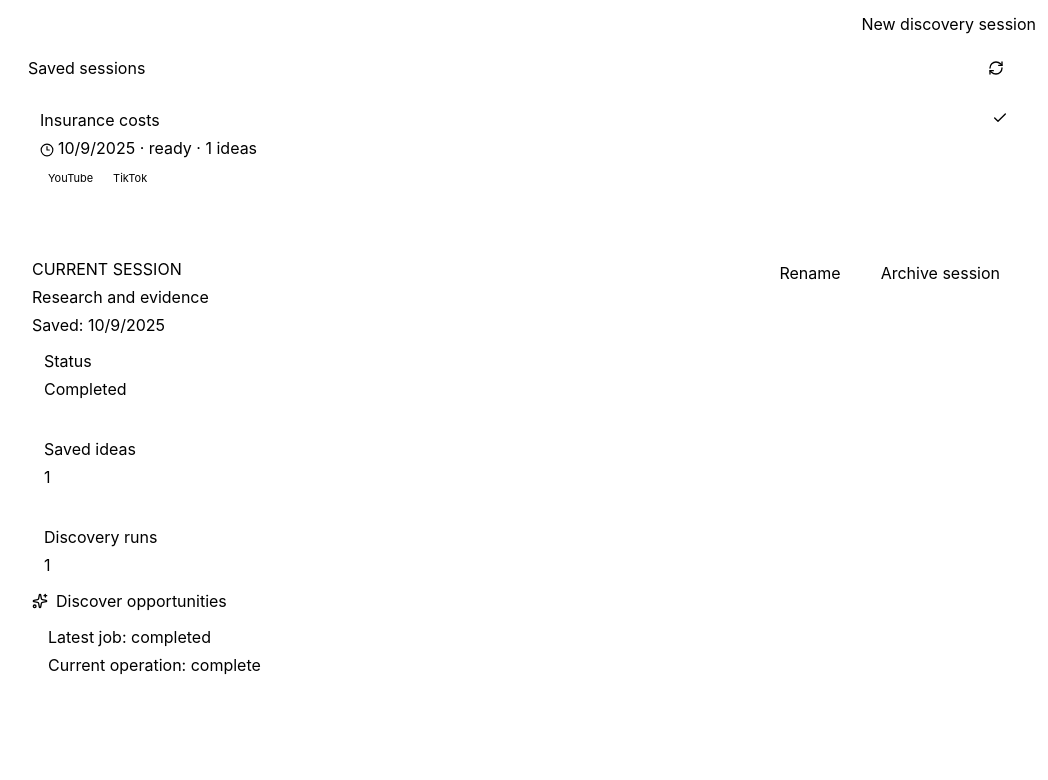
Content discovery sessions › does not auto-select when the new run finds no ideas despite older saved session ideas
Expected: the text "Latest job: completed" is shown, [48,626,211,646]
Click the button "Discover opportunities": (129, 600) [32,588,227,612]
Wait 3600 ms
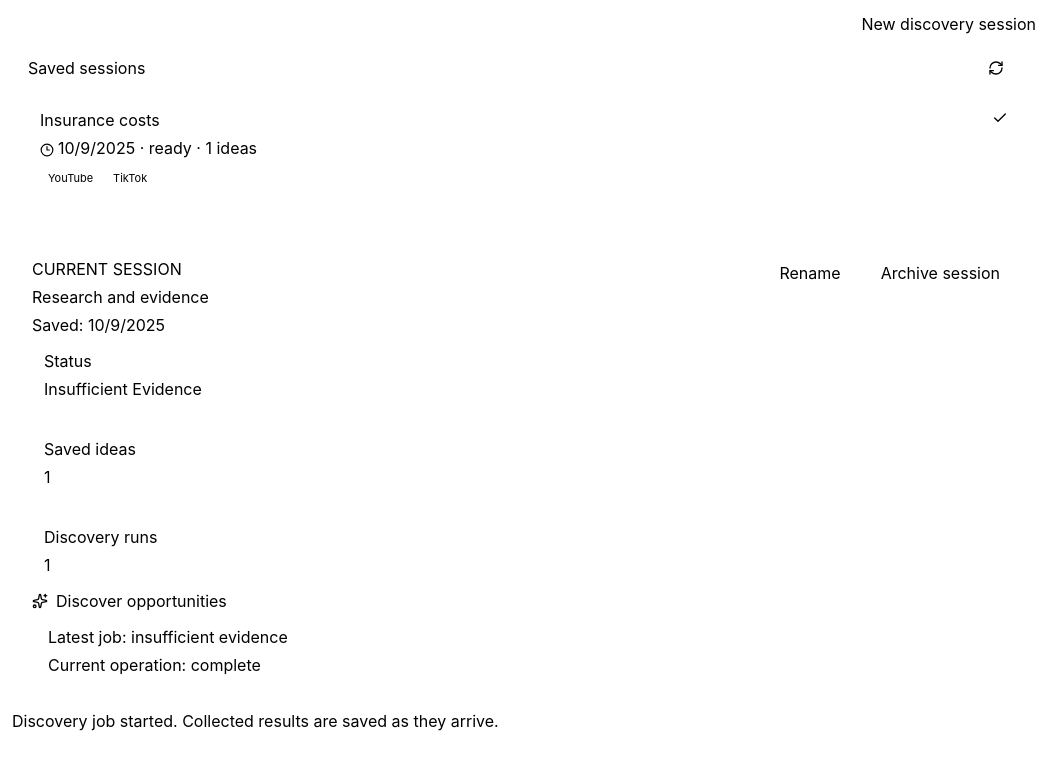
Now the text "Latest job: insufficient evidence" is shown, box [48,626,288,646]
